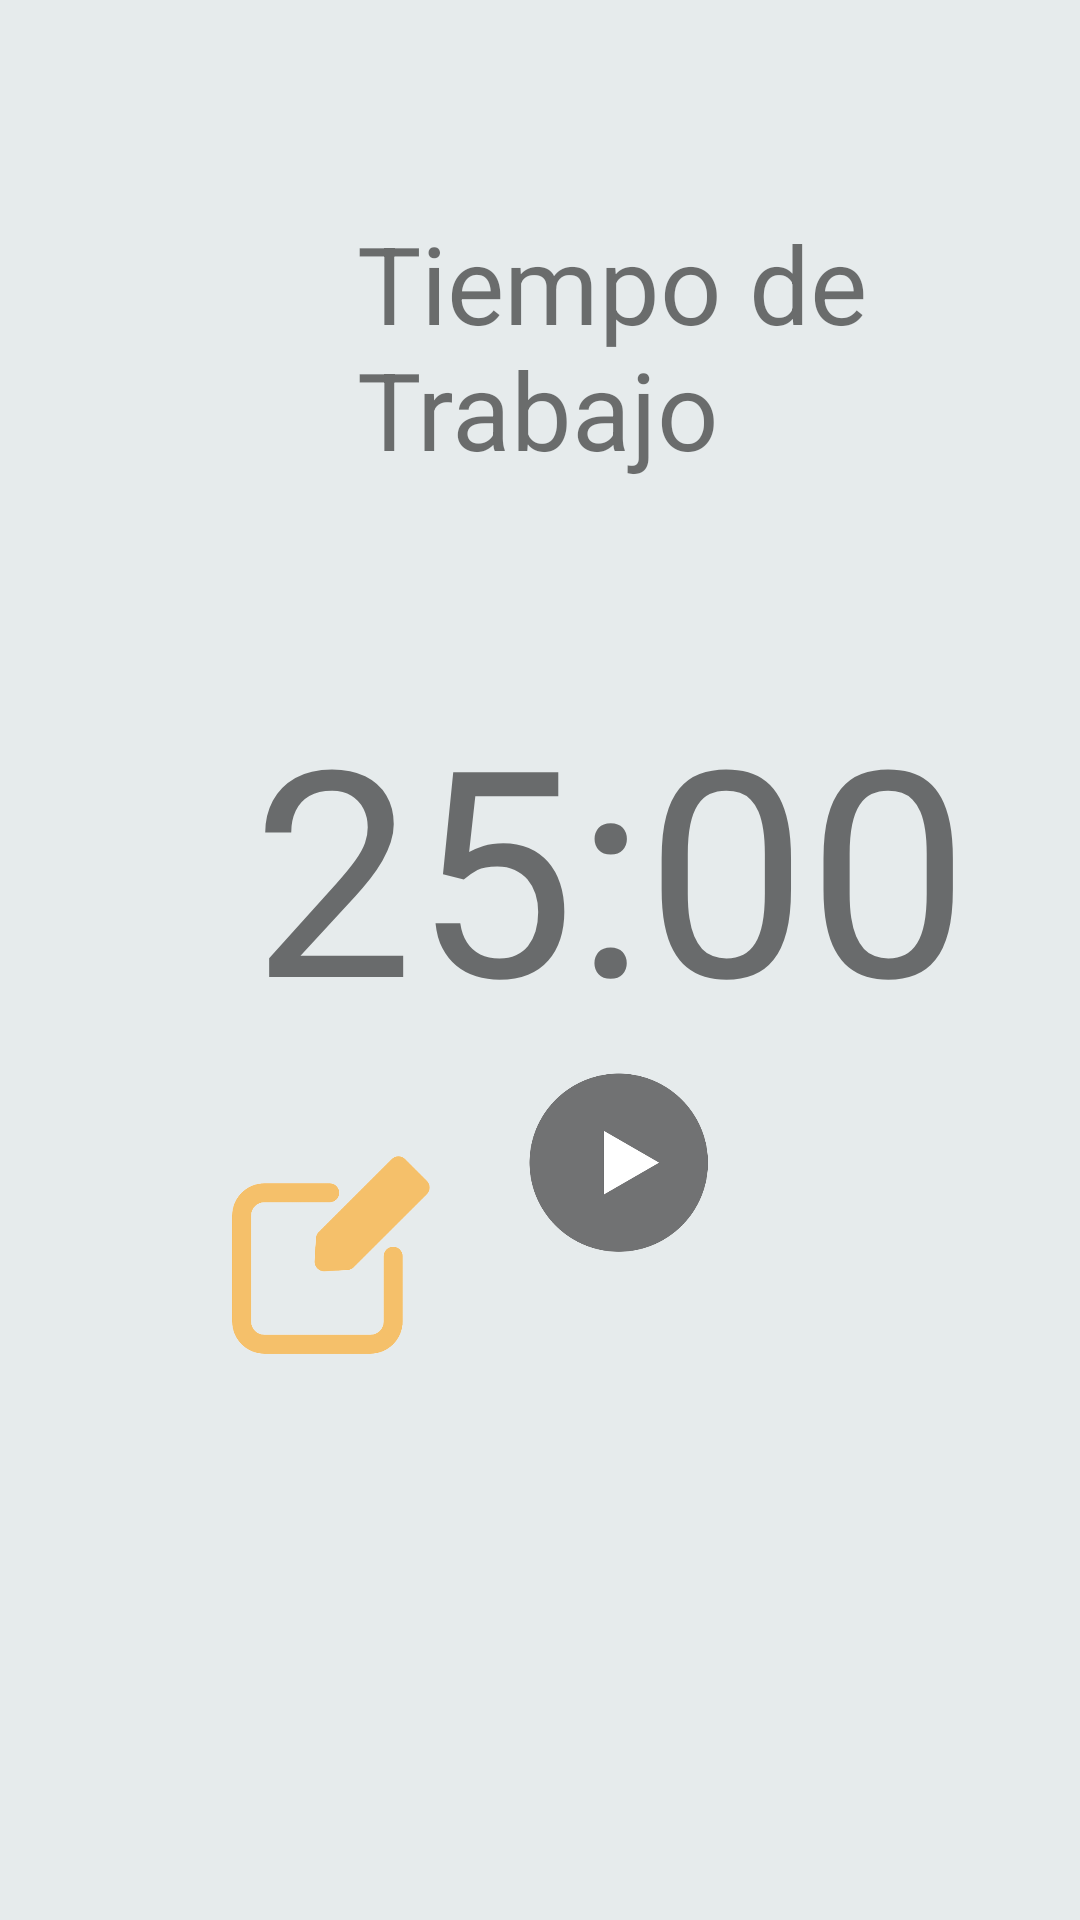

Point at icon controls on the screen. Image size 1080px x 1920px, points as (x=x, y=y).
edit: (x=331, y=1255)
play: (x=618, y=1162)
